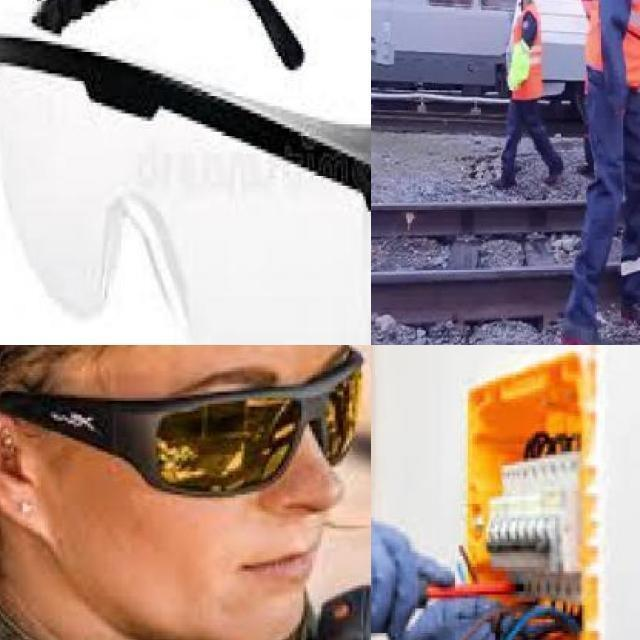apron: (371, 493, 429, 635)
